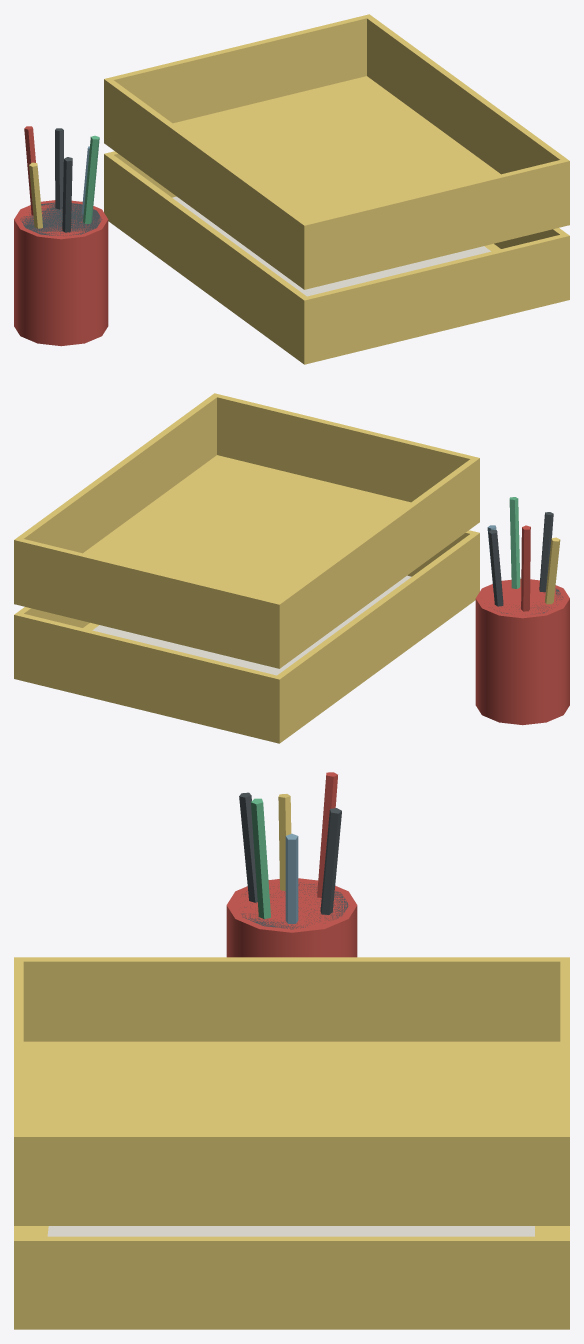
The model's file is desk_items.fbx.
3 views of the same model, one above another, from view 1: azimuth 30°, elevation 25°; view 2: azimuth 150°, elevation 25°; view 3: azimuth 270°, elevation 25° (orthographic). The views are drawn at different scales.
Parts seen in each view (by area): view 1: desk_items; view 2: desk_items; view 3: desk_items.
Boxes of the visible parts, bbox=[...] form: desk_items: bbox=[14, 14, 569, 364]; desk_items: bbox=[14, 393, 569, 743]; desk_items: bbox=[14, 772, 569, 1329].
Size of the model in its own units: 44 by 18.03 by 34.
